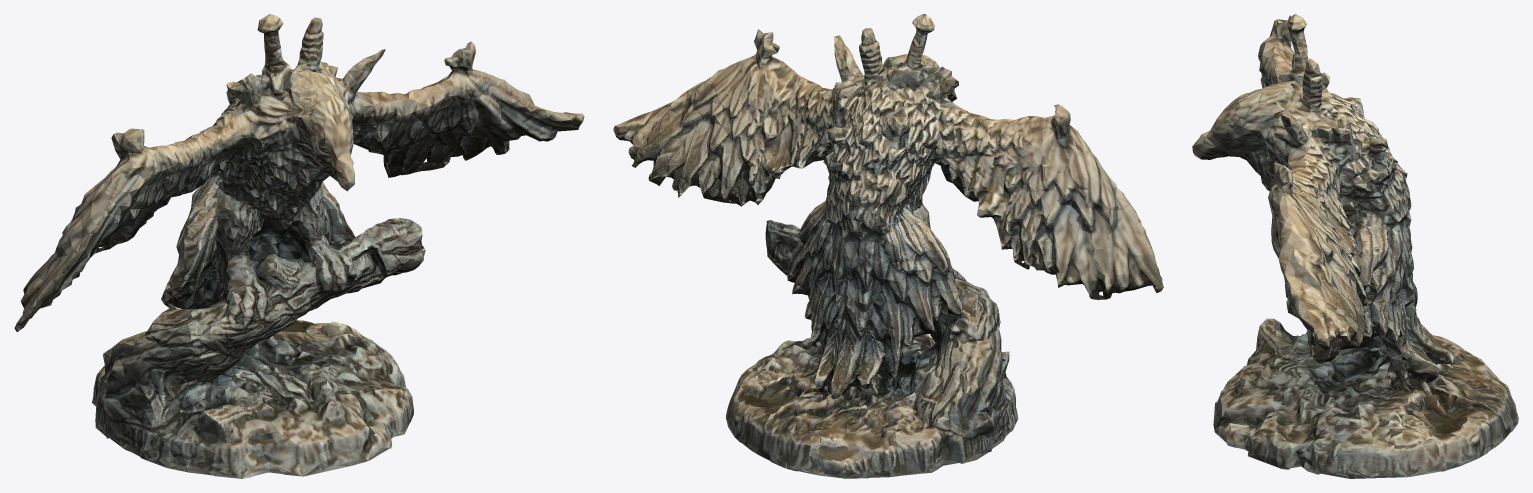
Rendered from hammerbeak.glb.
3 views of the same model, side by side, from view 1: azimuth 30°, elevation 25°; view 2: azimuth 150°, elevation 25°; view 3: azimuth 270°, elevation 25° (orthographic). The views are drawn at different scales.
Parts seen in each view (by area): view 1: geometry_0; view 2: geometry_0; view 3: geometry_0.
Boxes of the visible parts, left/top/right/bottom form: geometry_0: left=14, top=14, right=584, bottom=478; geometry_0: left=613, top=14, right=1163, bottom=478; geometry_0: left=1192, top=14, right=1518, bottom=478.
Size of the model in its own units: 0.0474 by 0.0328 by 0.0246.
1 material, 1 textured.
